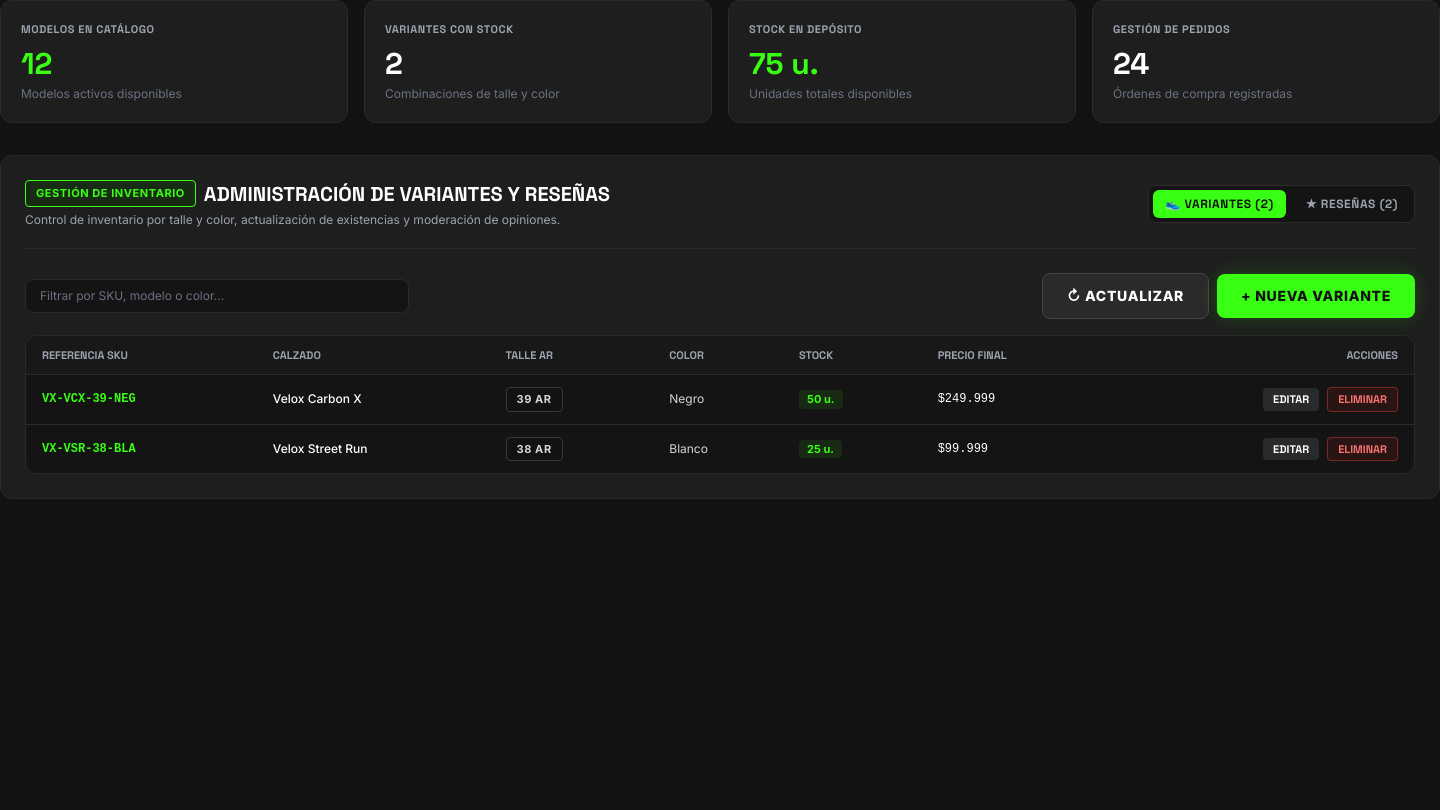
Test: DashboardPage (/dashboard) - KPIs Reactivos de Inventario › actualiza los KPIs inmediatamente cuando se crea una nueva variante
This screenshot has width=1440, height=810.
Expected: the text "75 u." is shown, [749, 44, 819, 82]
Expected: the text "2" is shown, [385, 44, 403, 82]
Click the button "+ NUEVA VARIANTE" at (1316, 296), box [1217, 274, 1415, 318]
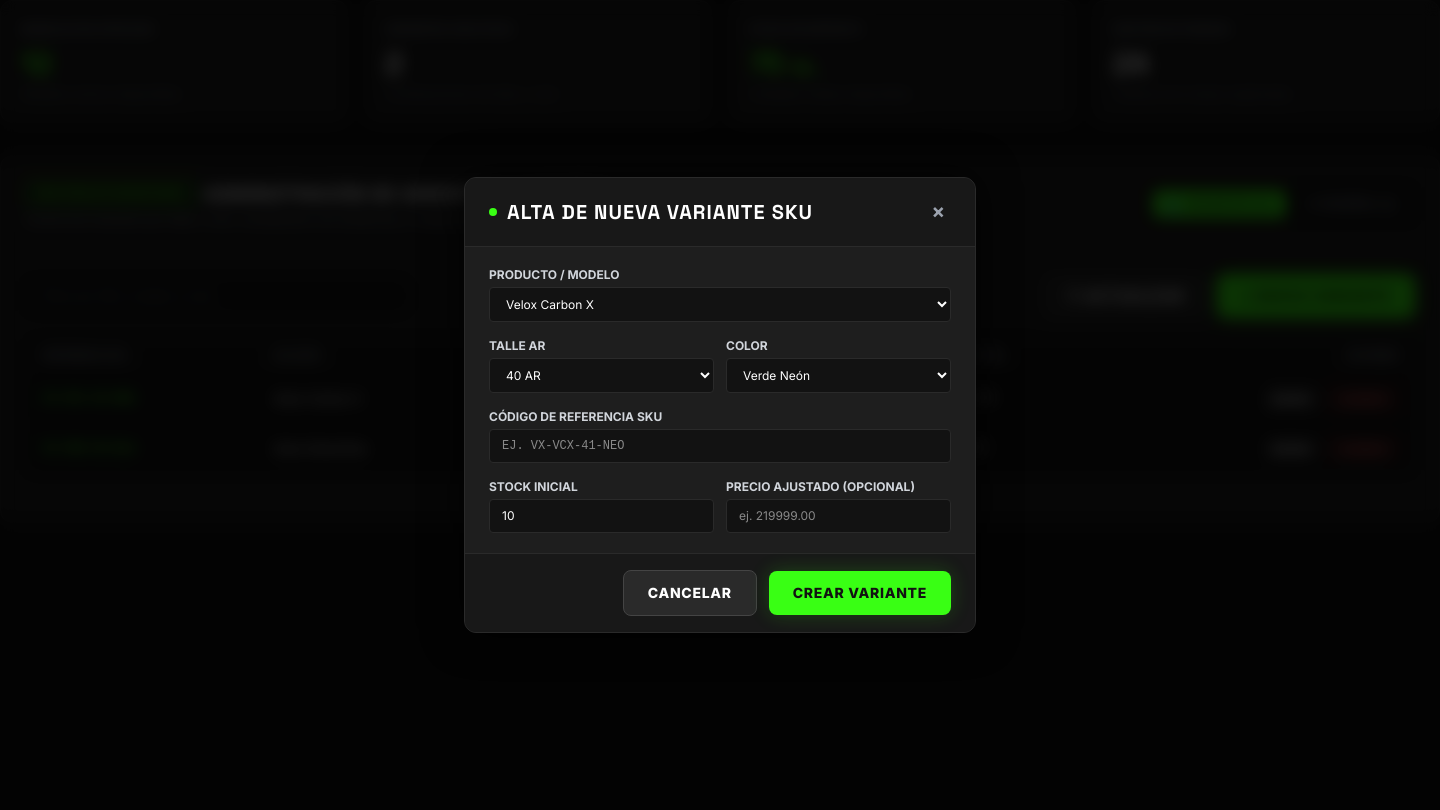
Type "VX-KAS-40-NEO" into the field with placeholder "ej. VX-VCX-41-NEO" at (720, 446), box [489, 429, 951, 463]
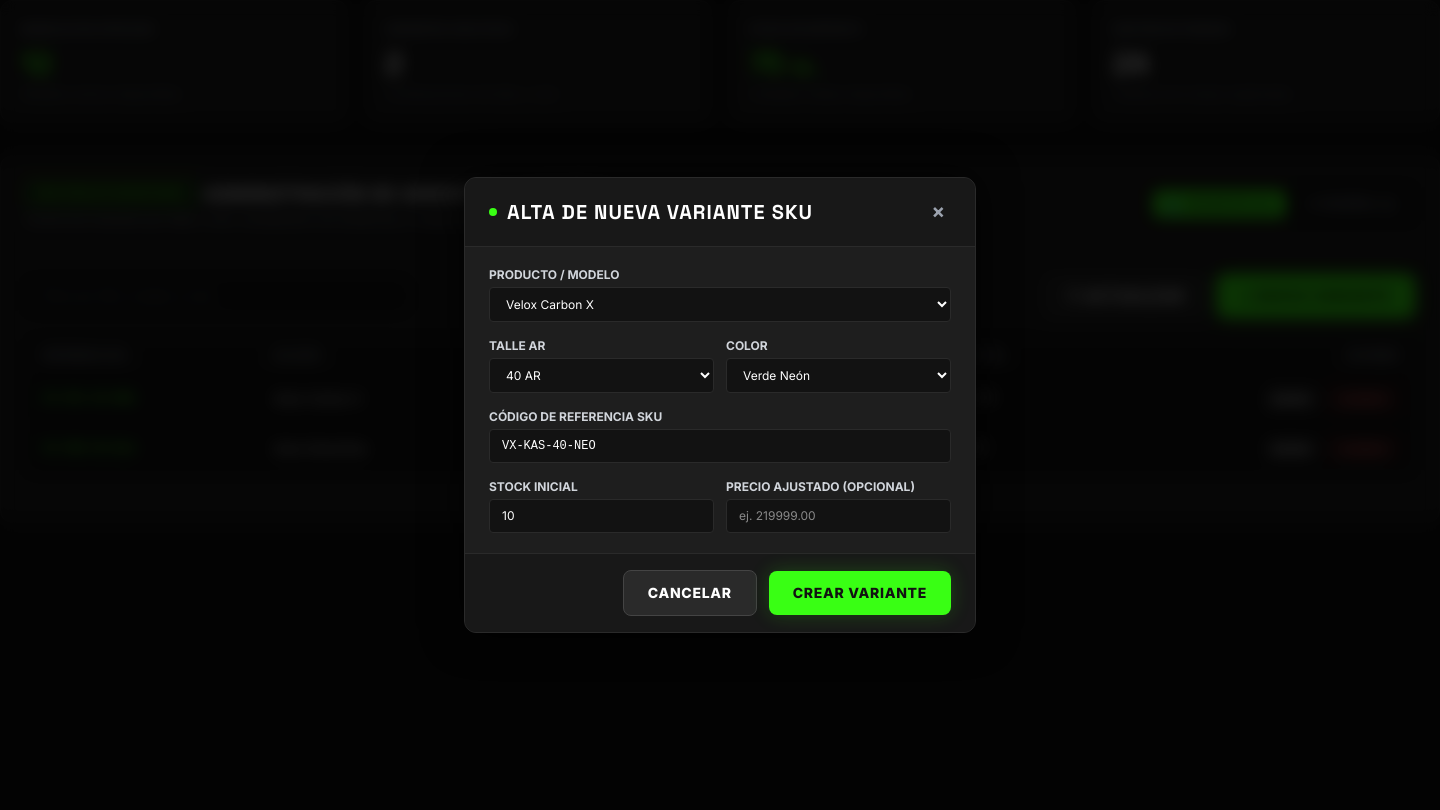
Click the button "CREAR VARIANTE" at (860, 593), box [769, 571, 951, 615]
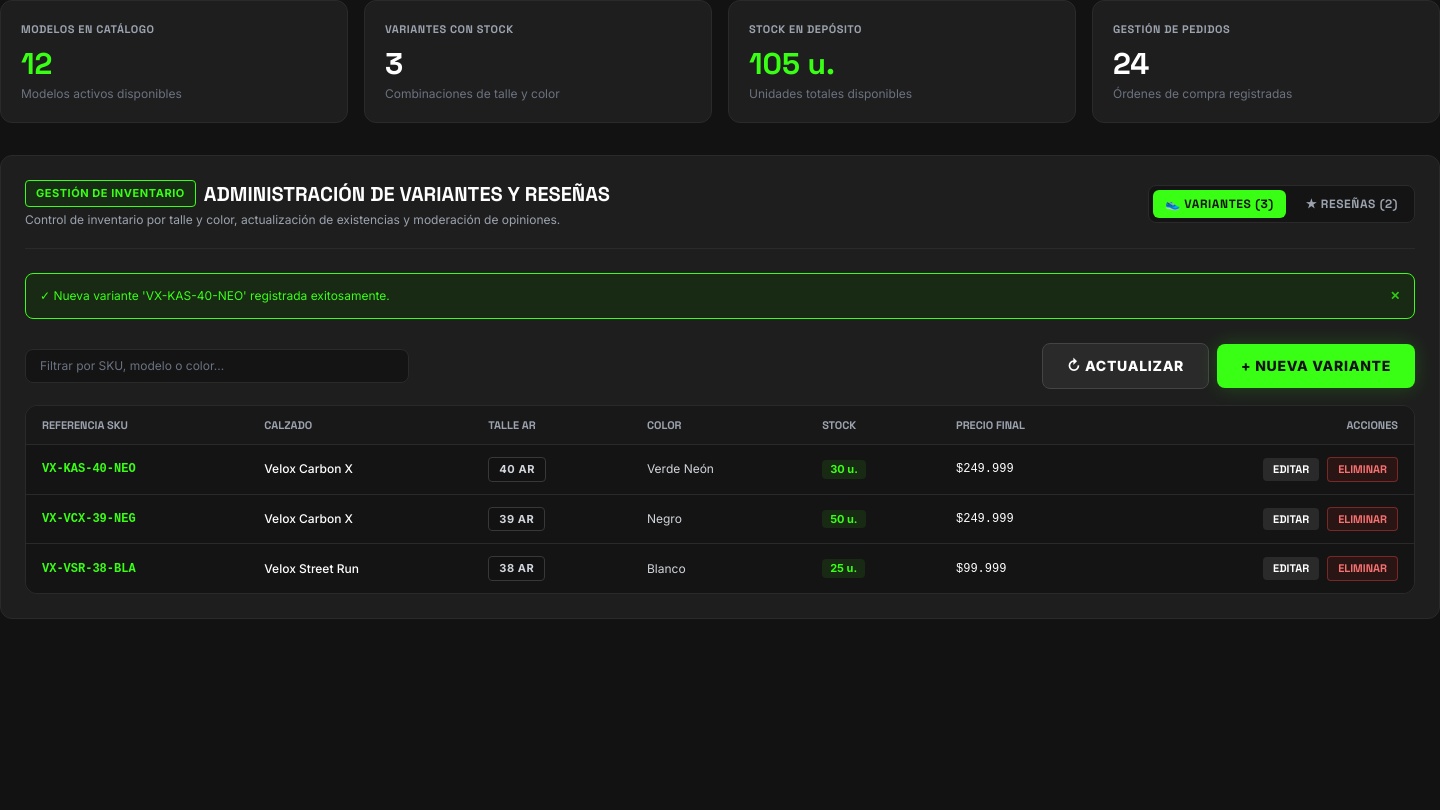
Expected: the text "3" is shown, [385, 44, 403, 82]
Now the text "105 u." is shown, box [749, 44, 835, 82]
